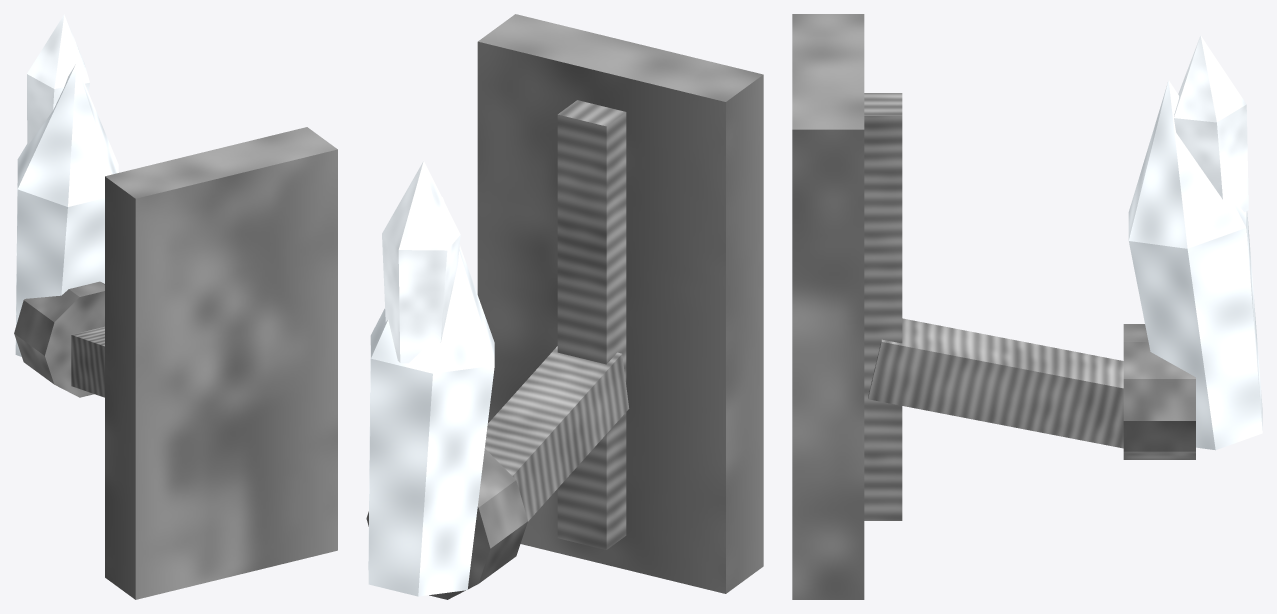
Rendered from decor-crystal-wall-sconce.glb.
3 renders of one model, left to right at view 1: azimuth 30°, elevation 25°; view 2: azimuth 150°, elevation 25°; view 3: azimuth 270°, elevation 25°, orthographic. The views are drawn at different scales.
Visible parts, largest first — view 1: wall-plate, lamp-crystal, socket, lamp-tip, bracket; view 2: wall-plate, lamp-crystal, vertical-band, bracket, lamp-tip, socket; view 3: wall-plate, lamp-crystal, bracket, vertical-band, socket, lamp-tip.
Part boxes in pixels (x1,y1,x2,y2): wall-plate: (105, 127, 337, 599); lamp-crystal: (15, 64, 118, 356); socket: (14, 281, 104, 397); lamp-tip: (27, 14, 89, 145); bracket: (71, 326, 104, 397); wall-plate: (477, 14, 763, 593); lamp-crystal: (368, 197, 494, 596); vertical-band: (557, 100, 626, 549); bracket: (484, 346, 629, 521); lamp-tip: (382, 161, 460, 363); socket: (366, 449, 527, 599); wall-plate: (792, 14, 864, 599); lamp-crystal: (1128, 80, 1262, 450); bracket: (868, 318, 1123, 448); vertical-band: (864, 93, 902, 520); socket: (1123, 324, 1195, 459); lamp-tip: (1174, 35, 1248, 212).
Bounding box in the file's own units: 0.38 × 0.7778 × 0.6528.
Materials: 6 (6 with a texture image).
